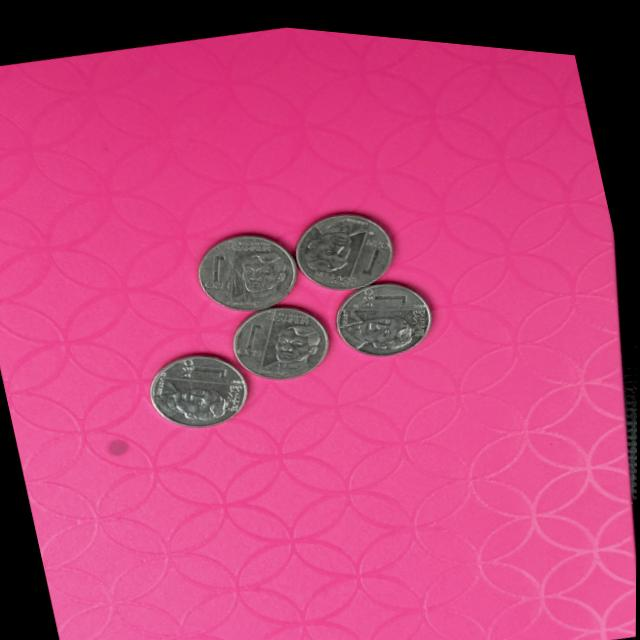1_New_Front: (188, 239, 245, 296), (164, 347, 230, 389), (349, 222, 394, 274), (355, 270, 416, 306), (231, 309, 273, 359)
